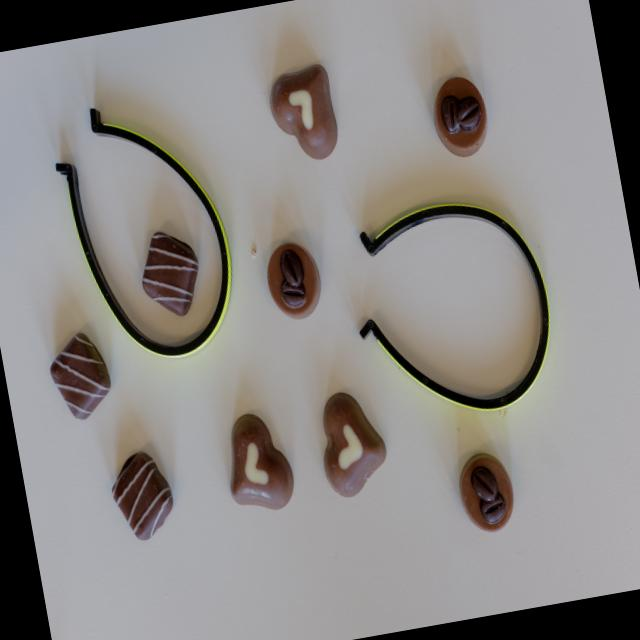Arabia: (426, 73, 494, 160), (262, 238, 328, 324), (453, 449, 518, 536)
Passion_au_lait: (310, 386, 392, 501), (216, 408, 298, 516), (264, 61, 342, 165)
Stracciatella: (104, 445, 180, 544), (45, 328, 116, 426), (133, 225, 204, 322)
